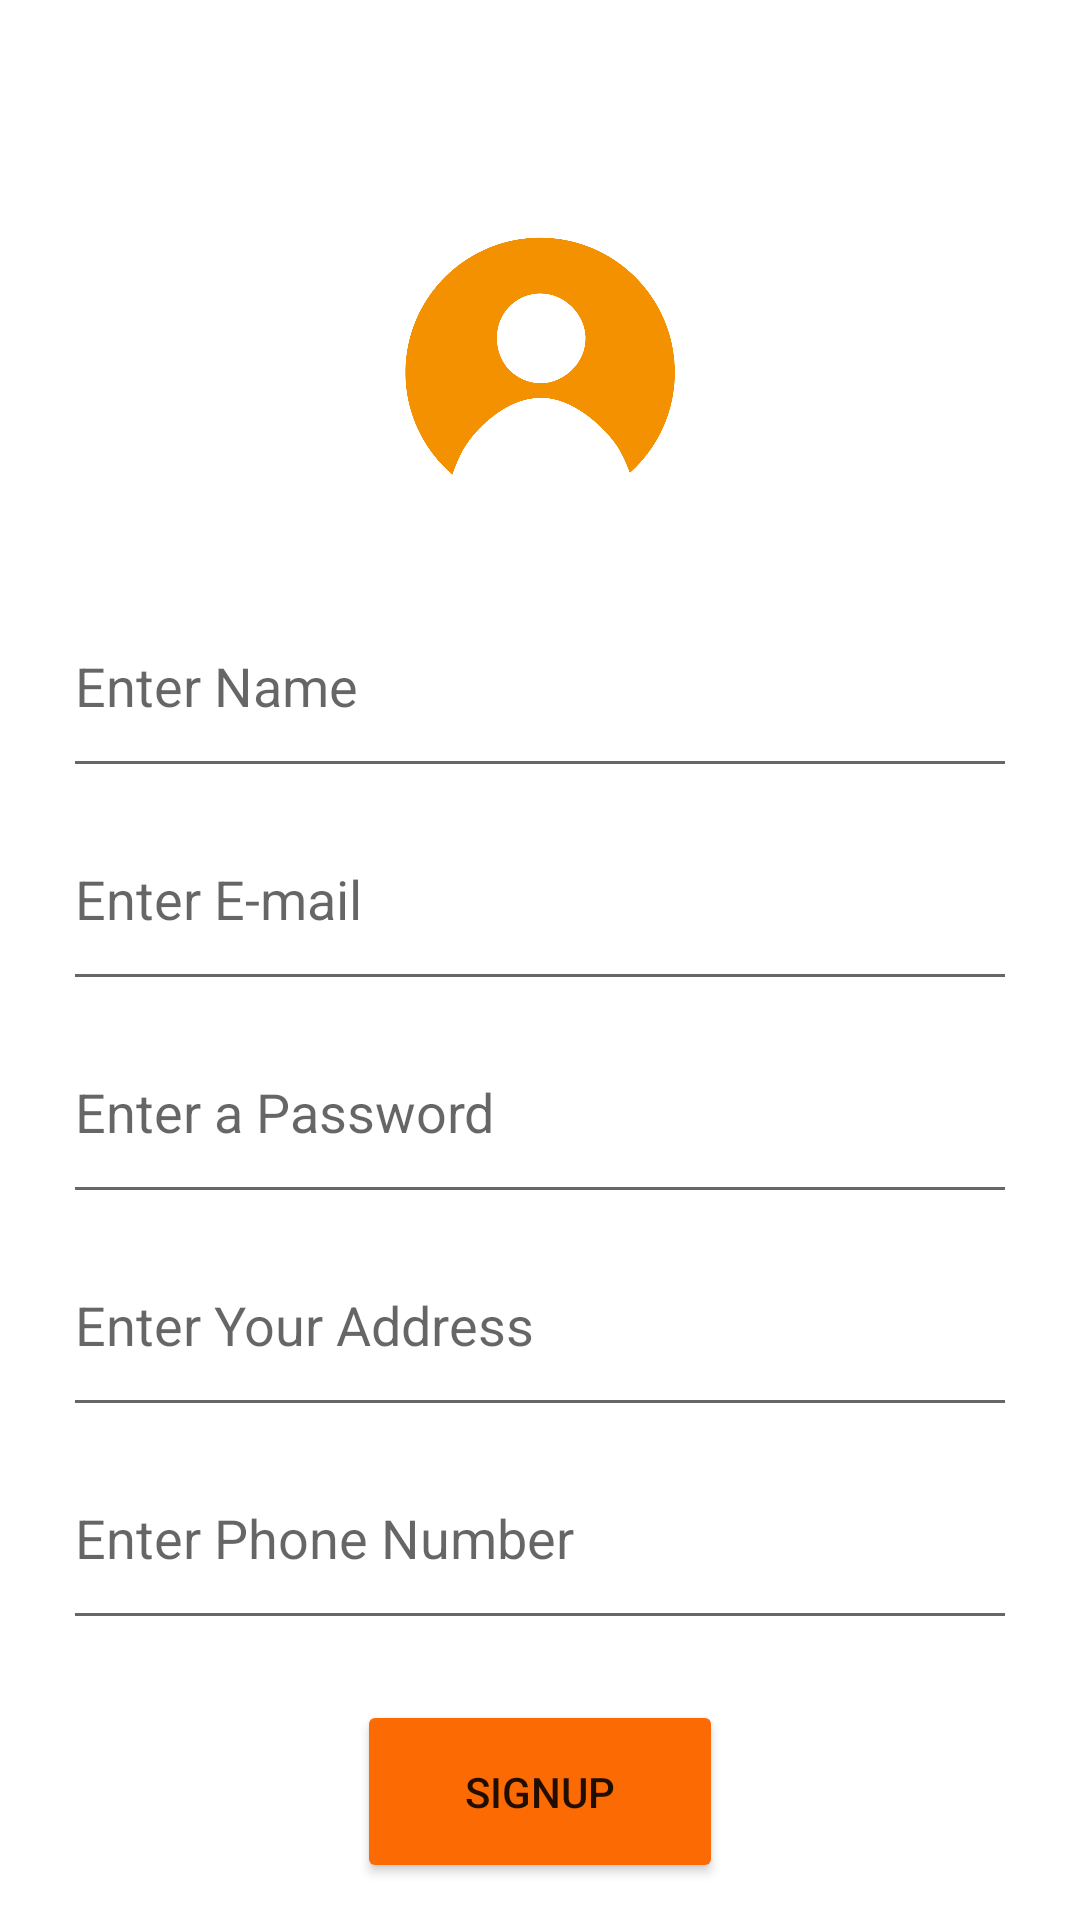

Where to tap for icons on this 1080 × 1920 app screen, as [x,y]:
usericon: [540,356]
